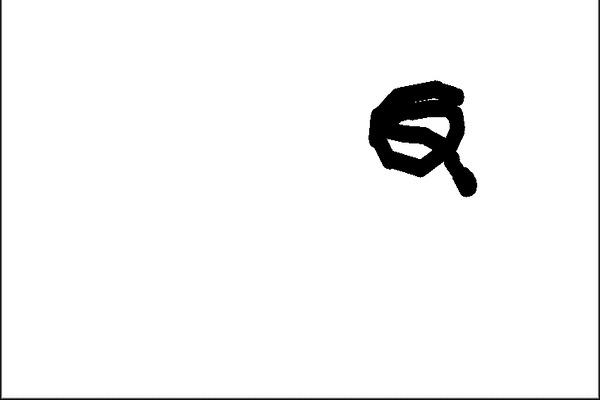Q: (357, 70, 478, 203)
